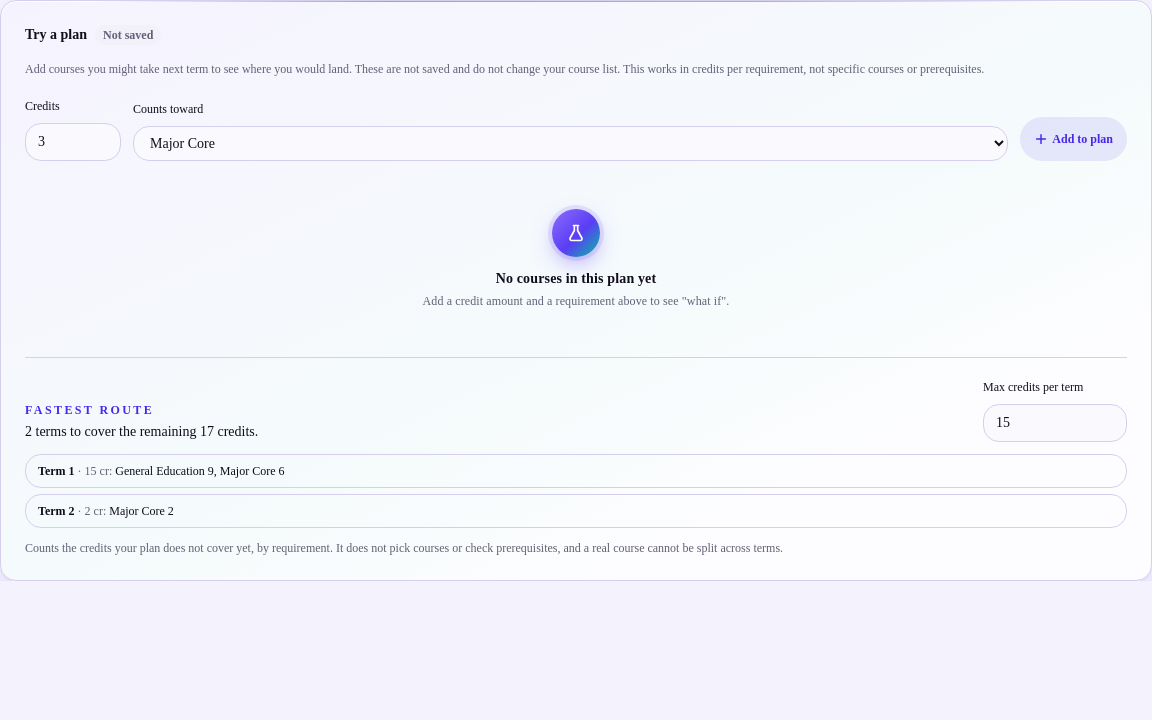
Test: WhatIfCard › reports credits past a requirement as extra rather than progress
Step 1. Replace the text in the number field labelled "Credits" with "10" → (73, 142), box [25,123,121,161]
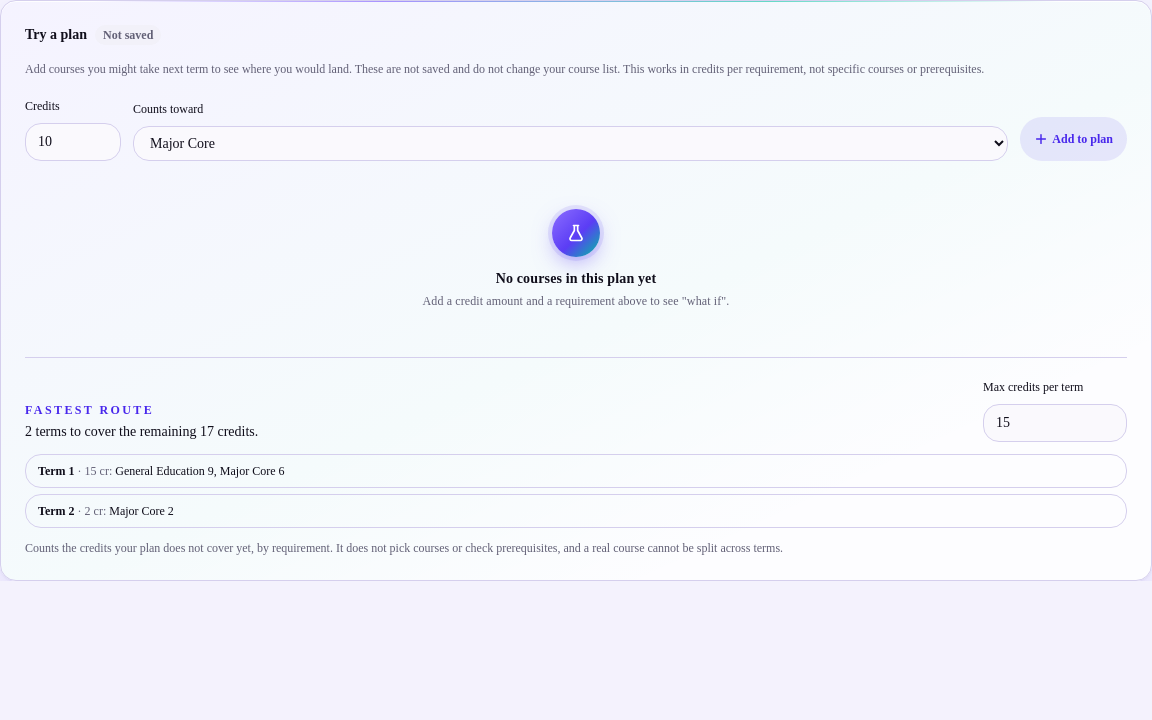
Step 2. Select "Major Core" in the dropdown labelled "Counts toward" → (571, 144), box [133,126,1008,161]
Step 3. Click the button "Add to plan" → (1074, 139), box [1020,117,1127,161]
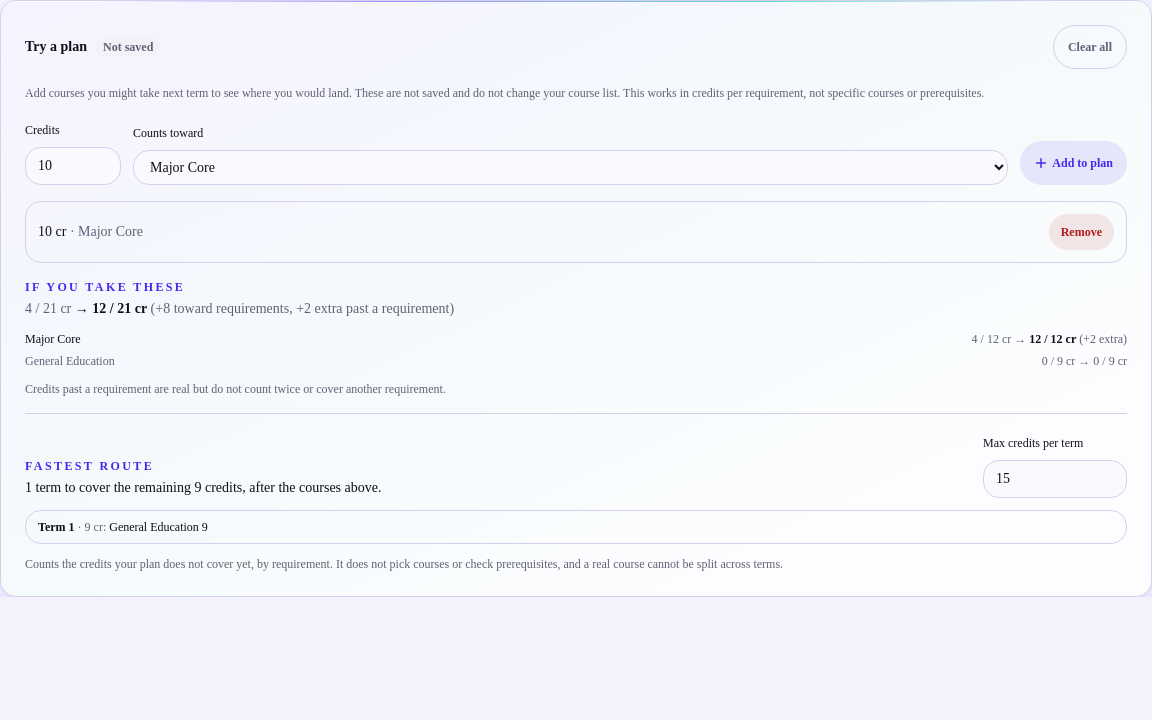
Check: the element named "Where you would land" shows "12 / 21 cr", box [25,279,1127,397]
Check: the element named "Where you would land" shows "+8 toward requirements", box [155,301,449,316]
Check: the element named "Where you would land" shows "+2 extra past a requirement", box [155,301,449,316]
